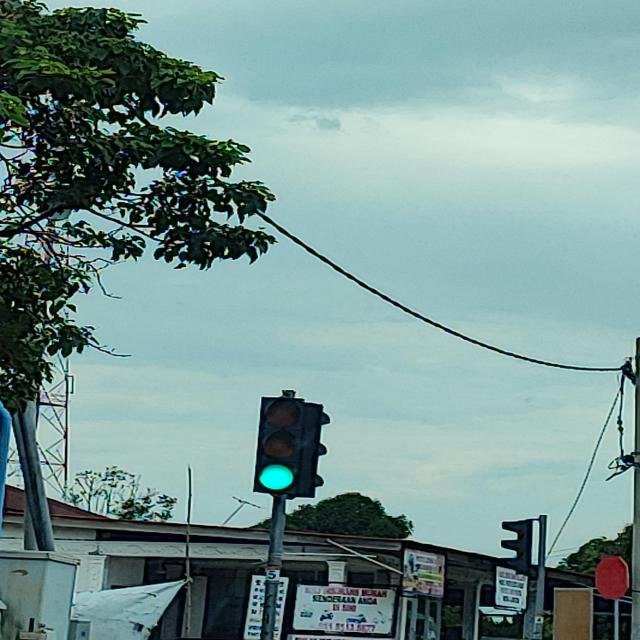traffic light: (253, 394, 330, 499), (254, 395, 304, 496), (302, 402, 330, 497), (501, 519, 532, 572)
